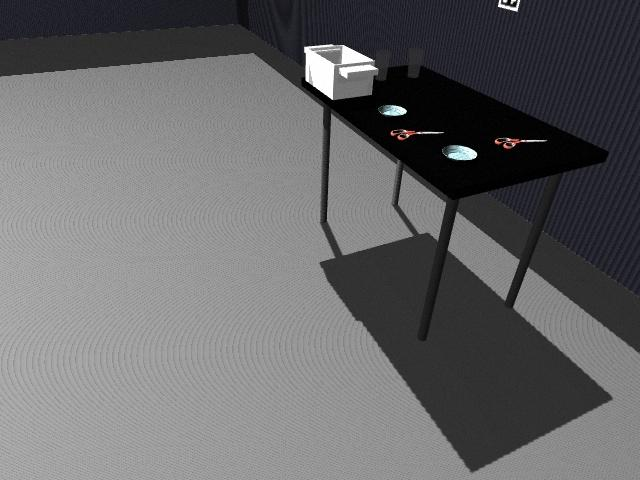cup: (373, 48, 390, 81), (407, 47, 424, 79)
plate: (442, 144, 480, 161), (377, 105, 407, 117)
scissors: (496, 137, 545, 149), (392, 129, 442, 140)
